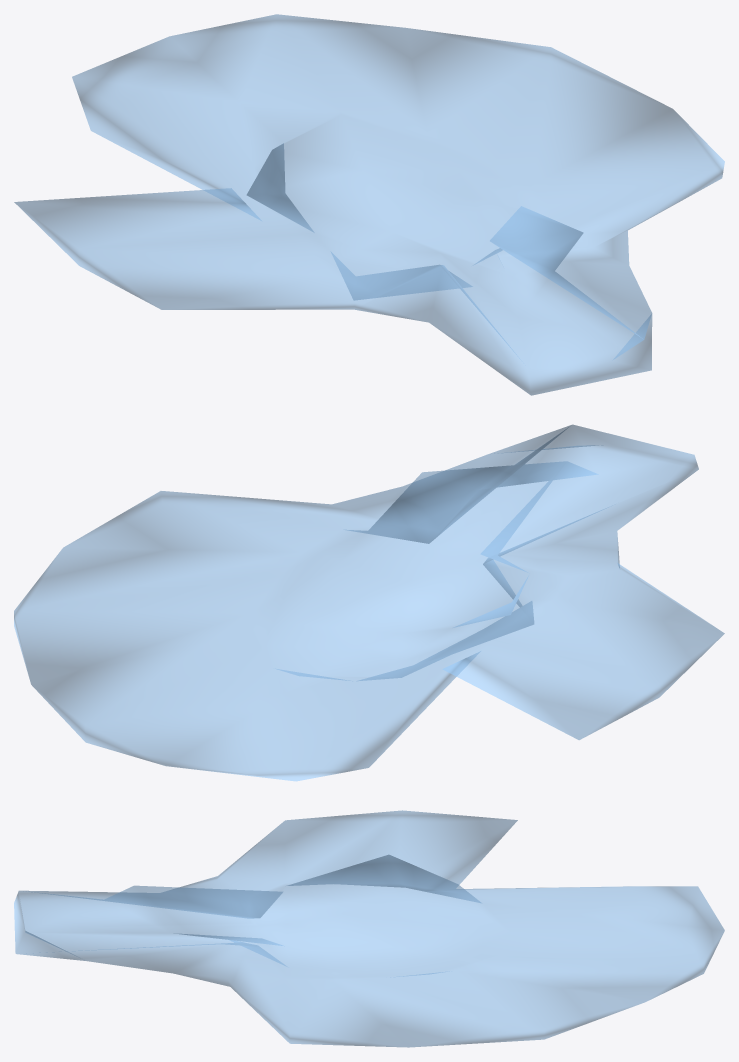
File: sstaos_shield.gltf
3 views of the same model, one above another, from view 1: azimuth 30°, elevation 25°; view 2: azimuth 150°, elevation 25°; view 3: azimuth 270°, elevation 25° (orthographic). The views are drawn at different scales.
Visible parts, largest first — view 1: sstaos.shield; view 2: sstaos.shield; view 3: sstaos.shield.
Boxes of the visible parts, bbox=[...] form: sstaos.shield: bbox=[14, 14, 724, 395]; sstaos.shield: bbox=[14, 424, 724, 781]; sstaos.shield: bbox=[14, 810, 724, 1047].
Size of the model in its own units: 11.36 by 1.55 by 14.81.
